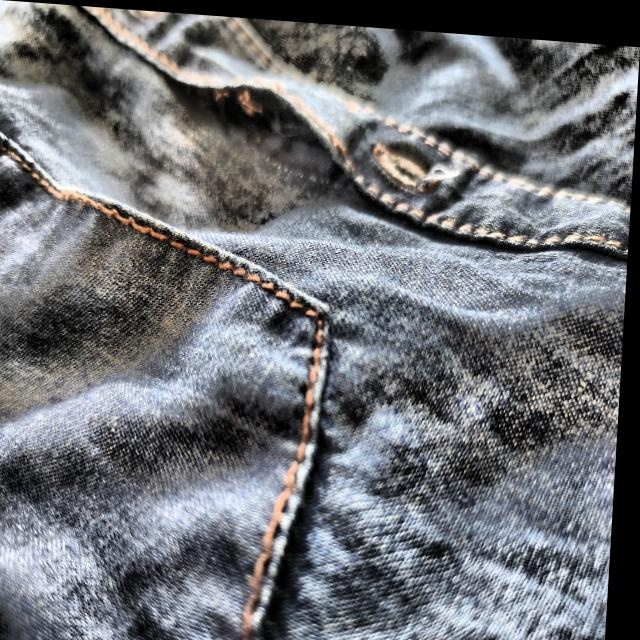seam: (138, 40, 373, 208)
